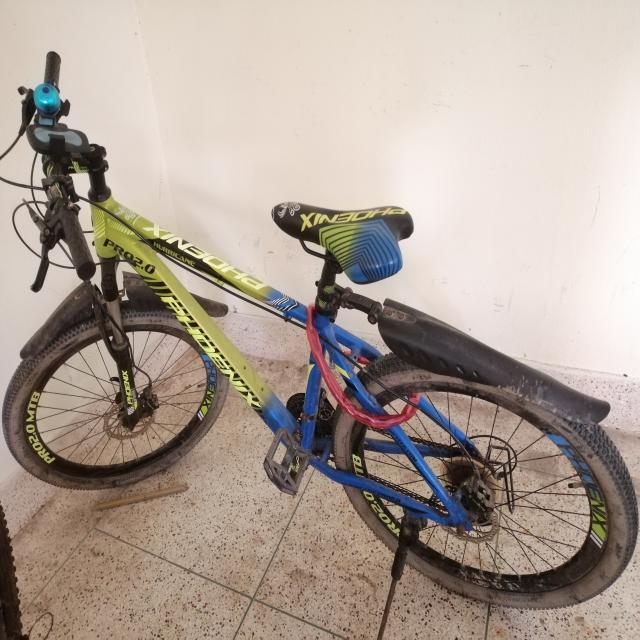Bicycle: (1, 25, 640, 640)
